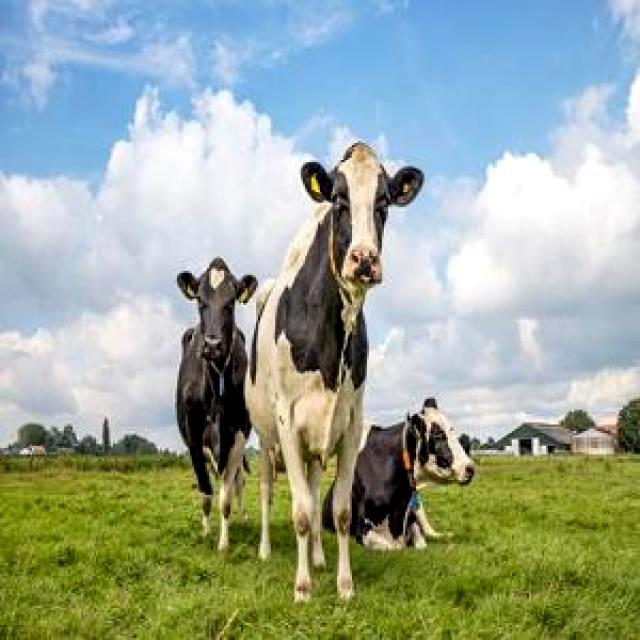COW: (245, 142, 422, 601), (176, 258, 258, 551), (351, 398, 475, 549)
